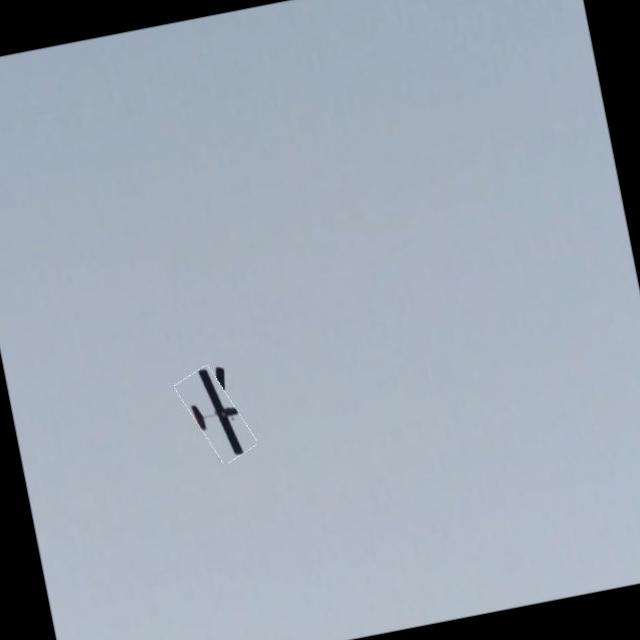UAV: (175, 347, 315, 505)
